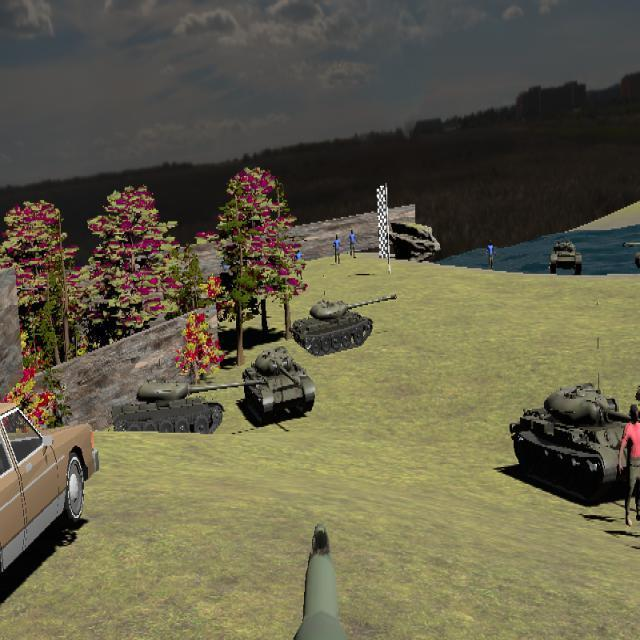Human: (617, 405, 640, 528)
Tank: (509, 383, 640, 504), (110, 378, 255, 443), (291, 293, 397, 357), (242, 347, 315, 426), (622, 226, 640, 275)
car: (0, 402, 100, 606), (0, 401, 100, 601)
